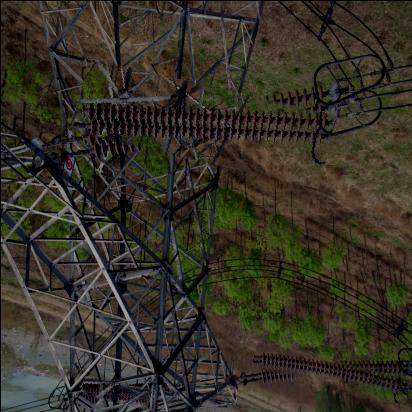insulator: (75, 71, 334, 175), (253, 351, 411, 396), (82, 380, 152, 407)
